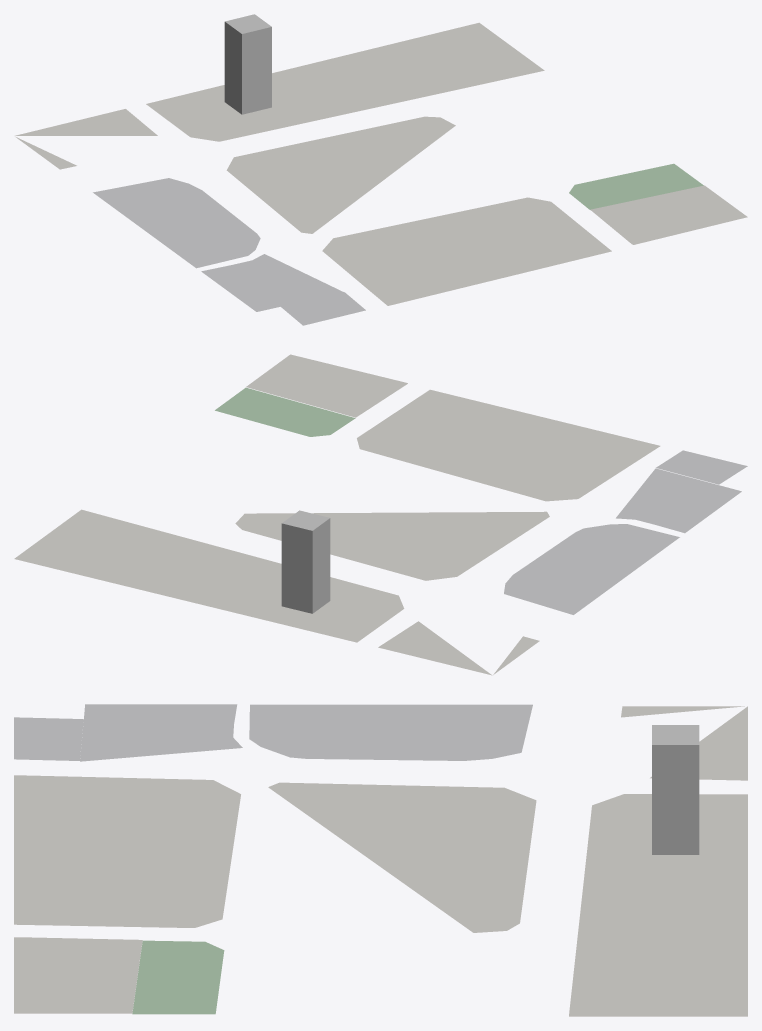
Rendered from 142_110_mid.glb.
3 views of the same model, one above another, from view 1: azimuth 30°, elevation 25°; view 2: azimuth 150°, elevation 25°; view 3: azimuth 270°, elevation 25° (orthographic). The views are drawn at different scales.
Bounding box in the file's own units: 500 × 83.3 × 500.
